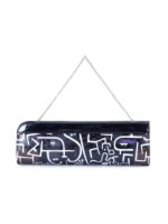bag: (16, 56, 154, 170)
